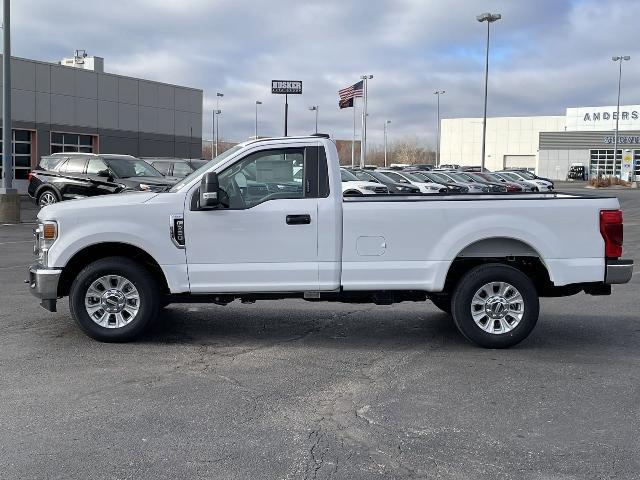pickup-truck: (27, 136, 636, 350)
